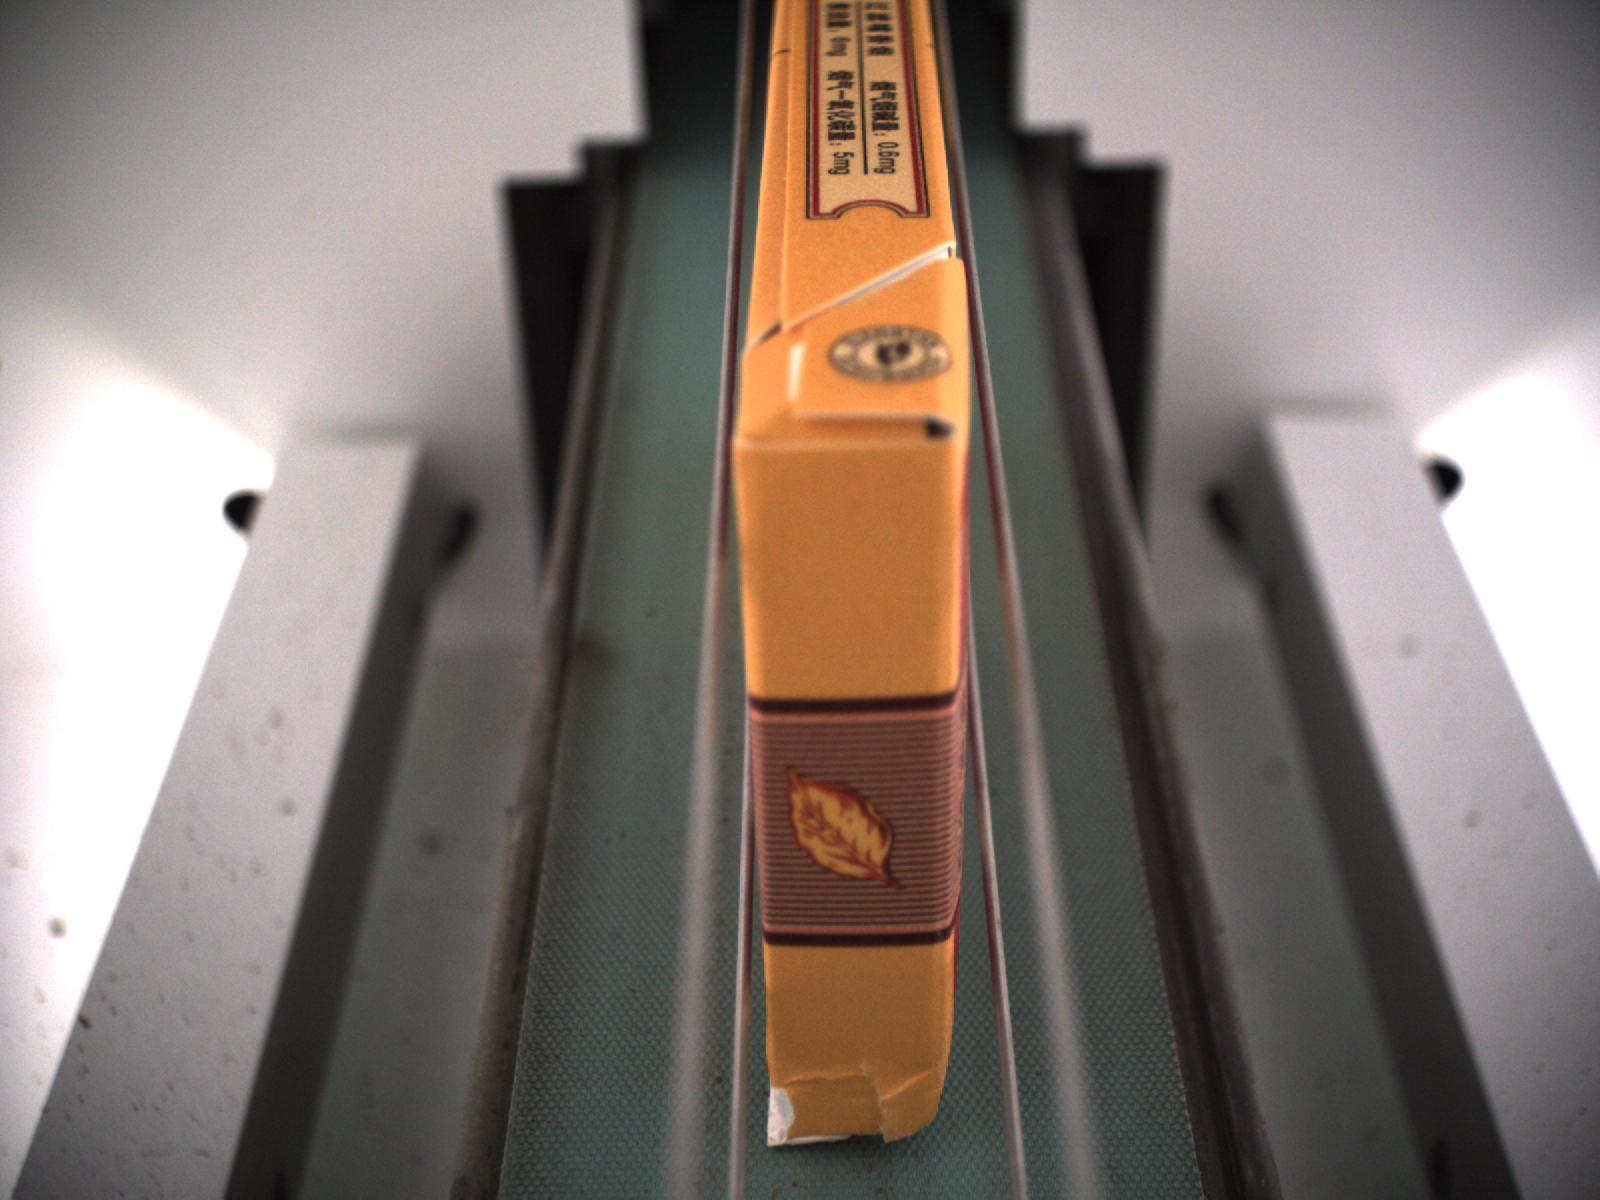headDamage_upper_2: (738, 329, 968, 452)
skewed_upper_2: (749, 29, 815, 350)
